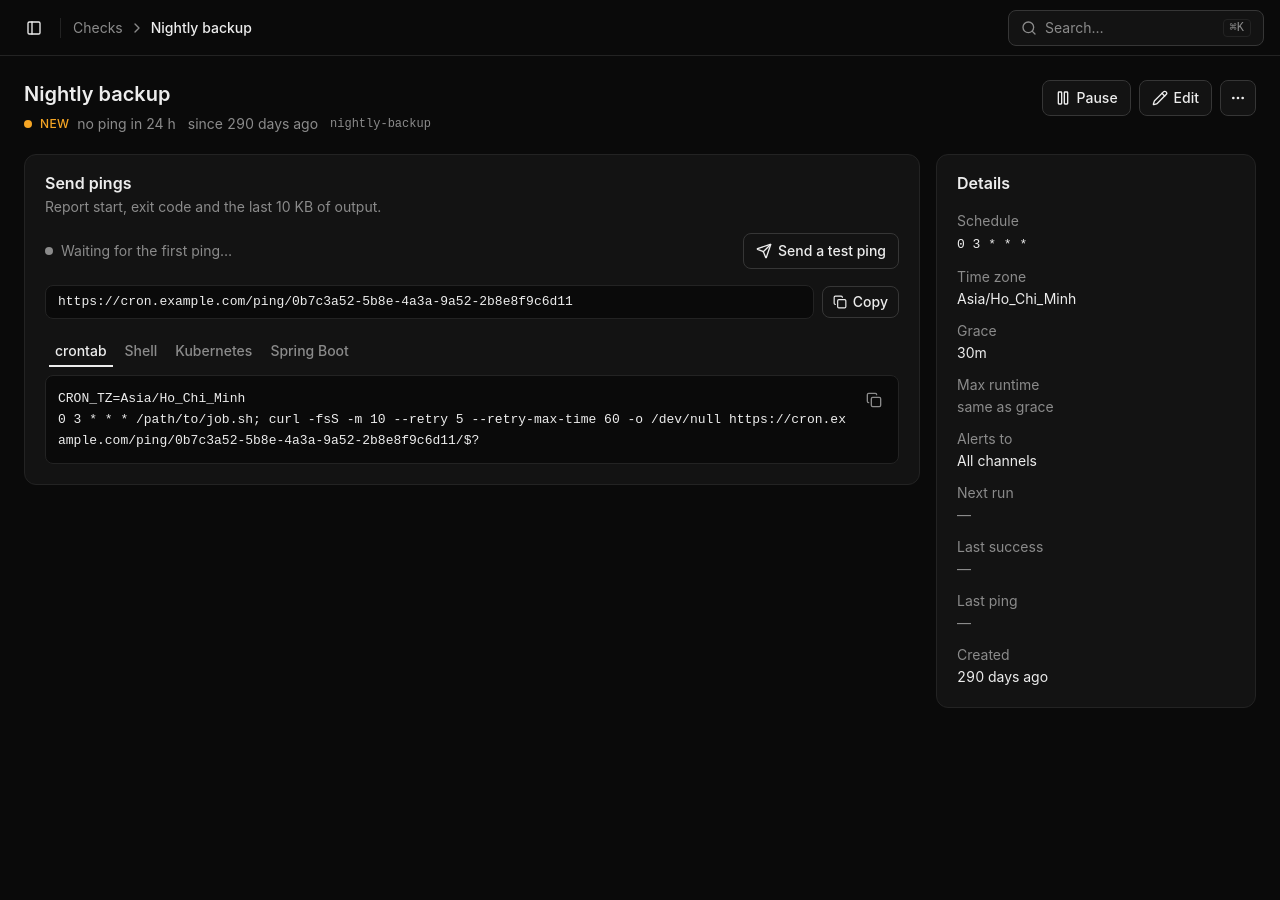
a check waiting for its first ping › says when the ping was refused
This screenshot has width=1280, height=900.
Click the button "Send a test ping" at (821, 251), box [743,233,899,269]
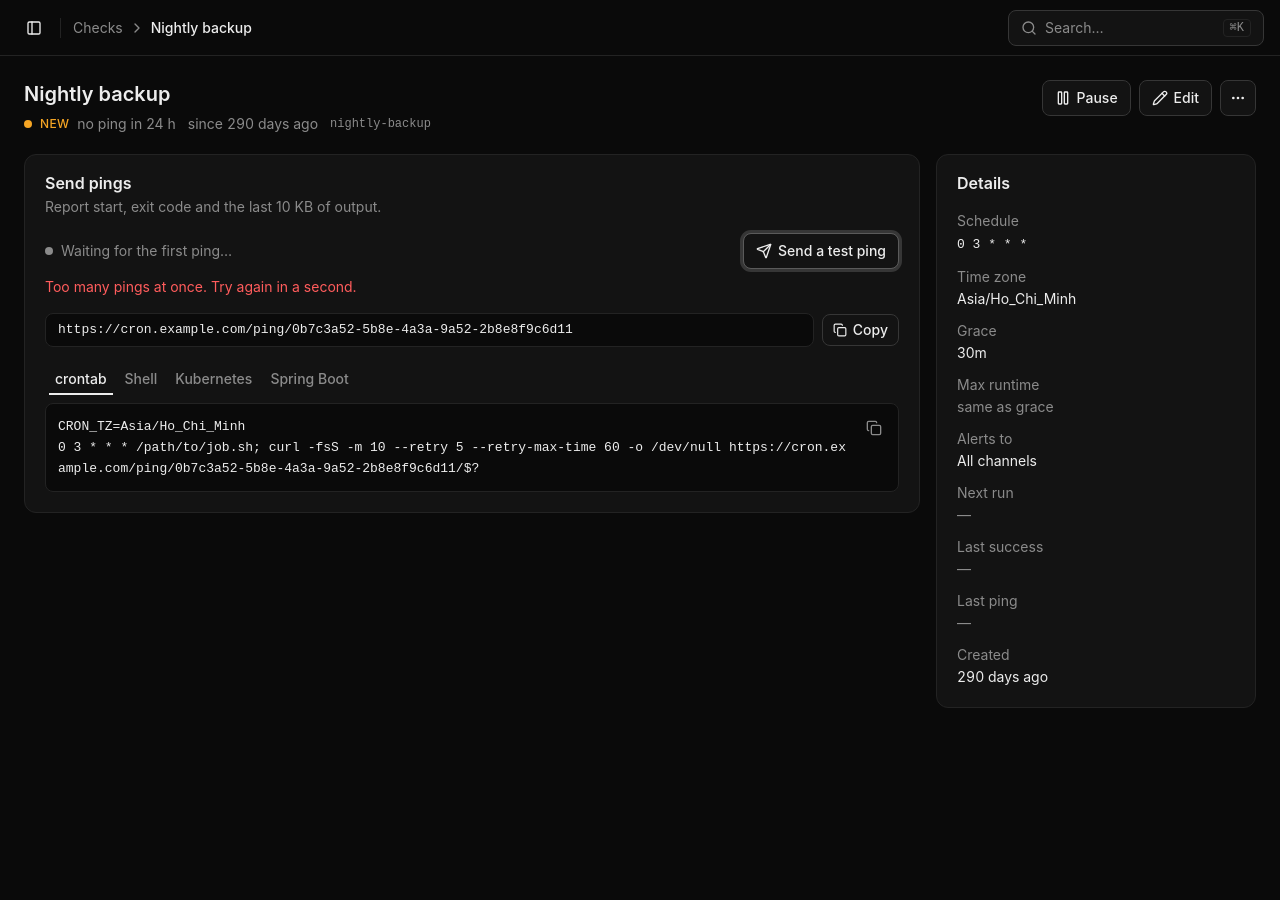
Expected: the text "Waiting for the first ping…" is shown, [61,241,232,261]
Expected: the text "Too many pings at once. Try again in a second." is shown, [45,278,357,295]
